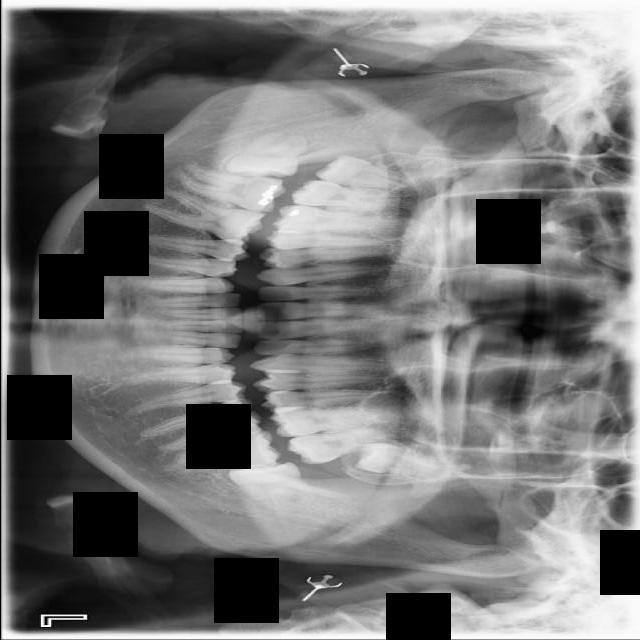3M ESPE Implant: (311, 153, 421, 195)
52: (228, 177, 288, 213), (272, 205, 326, 234)
73: (40, 600, 66, 608)
BioHorizons Implant: (284, 420, 400, 470)
BioLife Implant: (352, 444, 469, 481)
Biomet 3i Implant: (227, 456, 316, 518)
Blue Sky Bio Implant: (172, 430, 281, 470)
Caries: (288, 179, 407, 211)
Implant: (167, 152, 291, 222)
Keystone Dental Implant: (225, 129, 308, 180)
